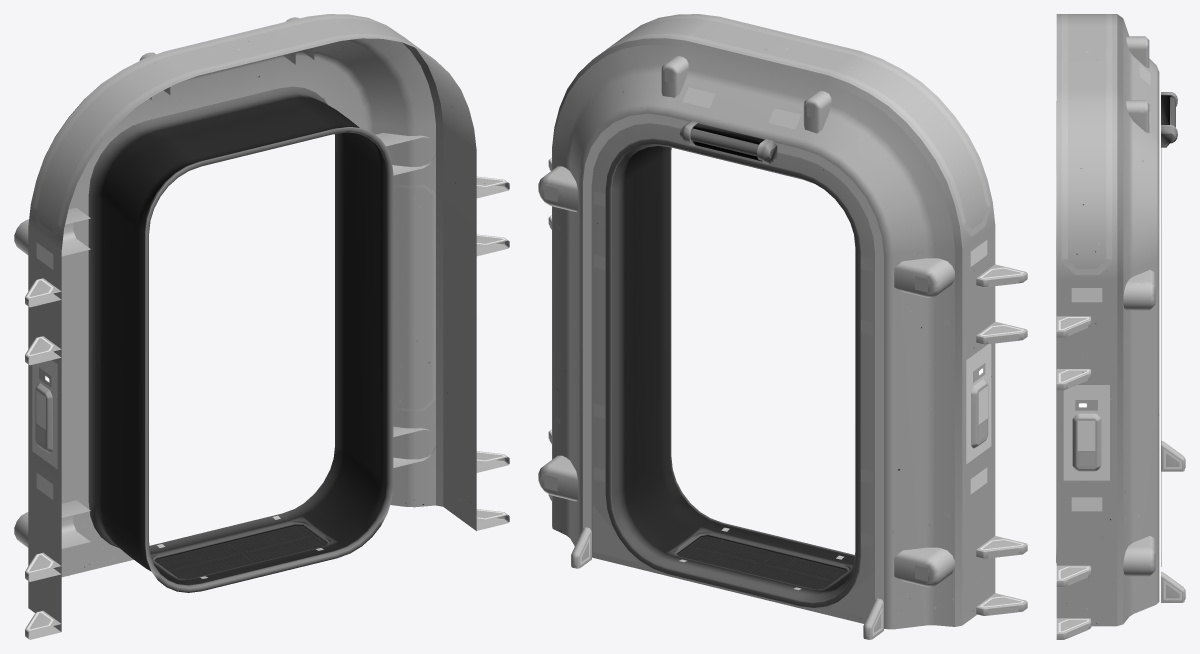
Rendered from SM_Modular_InteriorDoorConnector_Merged.fbx.
The picture shows the model from 3 angles, left to right: view 1: azimuth 30°, elevation 25°; view 2: azimuth 150°, elevation 25°; view 3: azimuth 270°, elevation 25°; orthographic projection. The views are drawn at different scales.
Visible parts, largest first — view 1: SM_Modular_InteriorDoorConnector_Merged_LOD0; view 2: SM_Modular_InteriorDoorConnector_Merged_LOD0; view 3: SM_Modular_InteriorDoorConnector_Merged_LOD0.
Part boxes in pixels (bbox=[...]): SM_Modular_InteriorDoorConnector_Merged_LOD0: bbox=[14, 14, 509, 639]; SM_Modular_InteriorDoorConnector_Merged_LOD0: bbox=[538, 14, 1027, 639]; SM_Modular_InteriorDoorConnector_Merged_LOD0: bbox=[1056, 14, 1185, 639].
Bounding box in the file's own units: 299 × 76.66 × 312.
